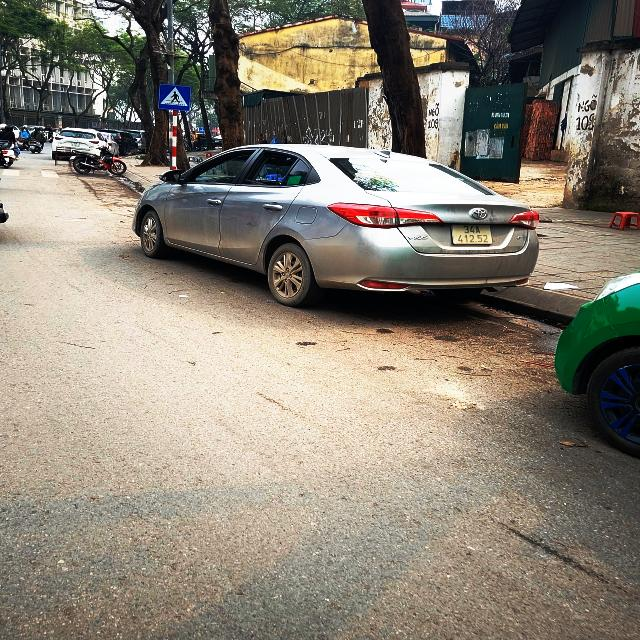license_plate: (451, 225, 494, 246)
